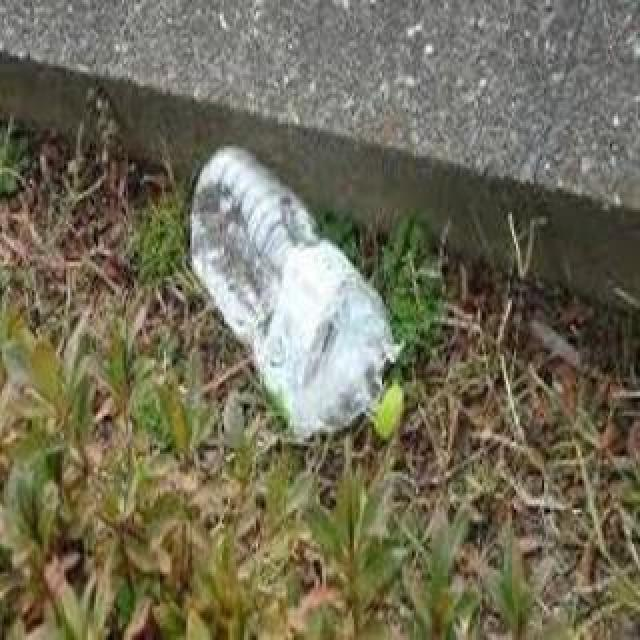Pet_Bottle: (182, 136, 410, 456)
